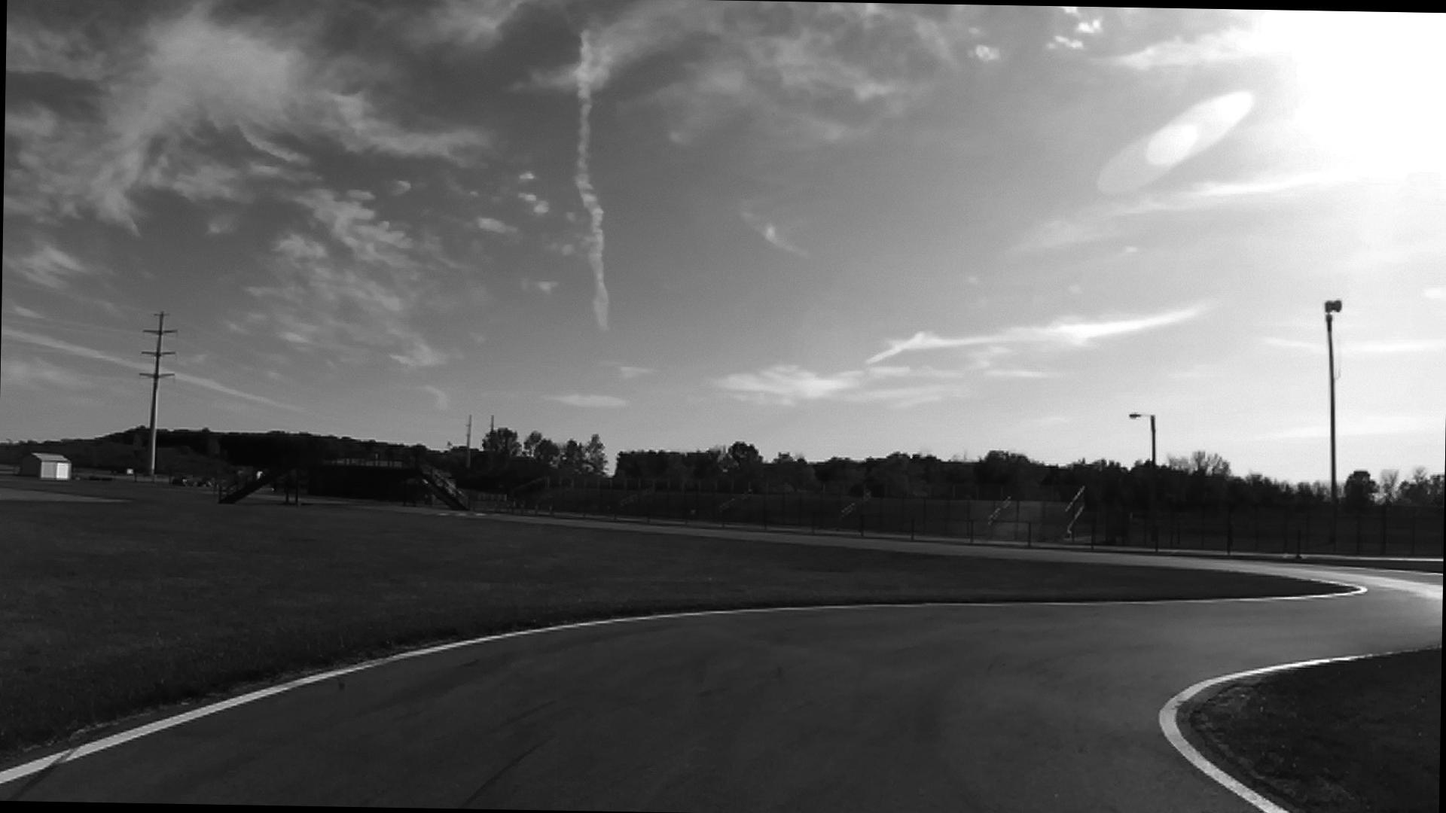white-line: (0, 585, 1367, 785), (1158, 654, 1384, 813)
